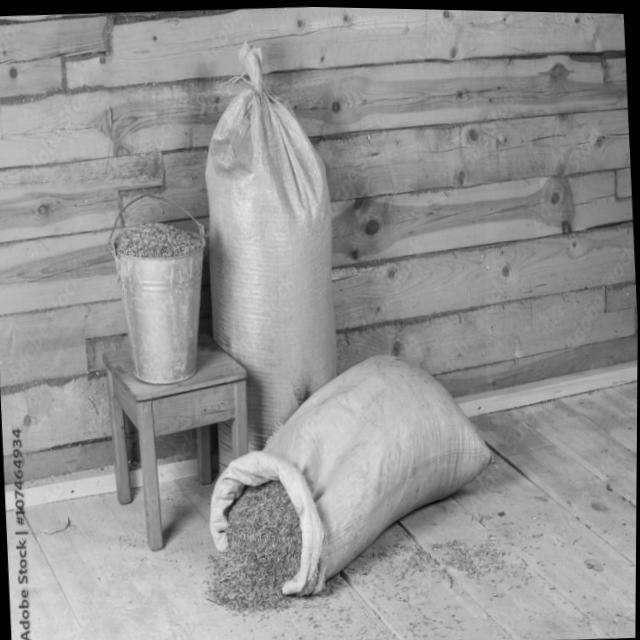sack: (202, 345, 503, 605), (196, 35, 345, 440)
